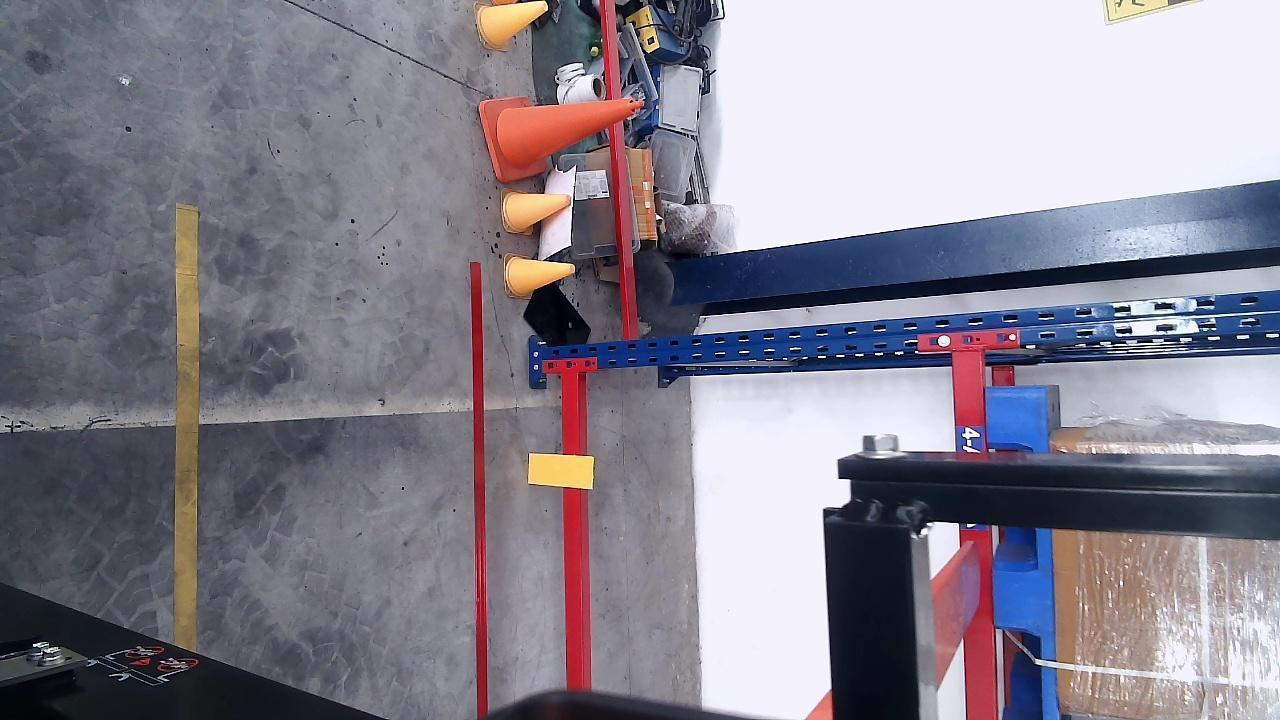red_line: (471, 259, 489, 717)
yellow_line: (175, 201, 198, 655)
